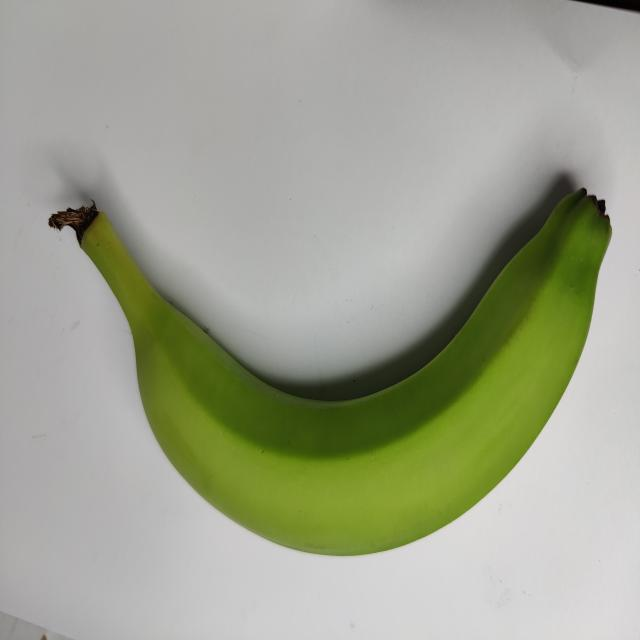raw: (40, 125, 617, 572)
